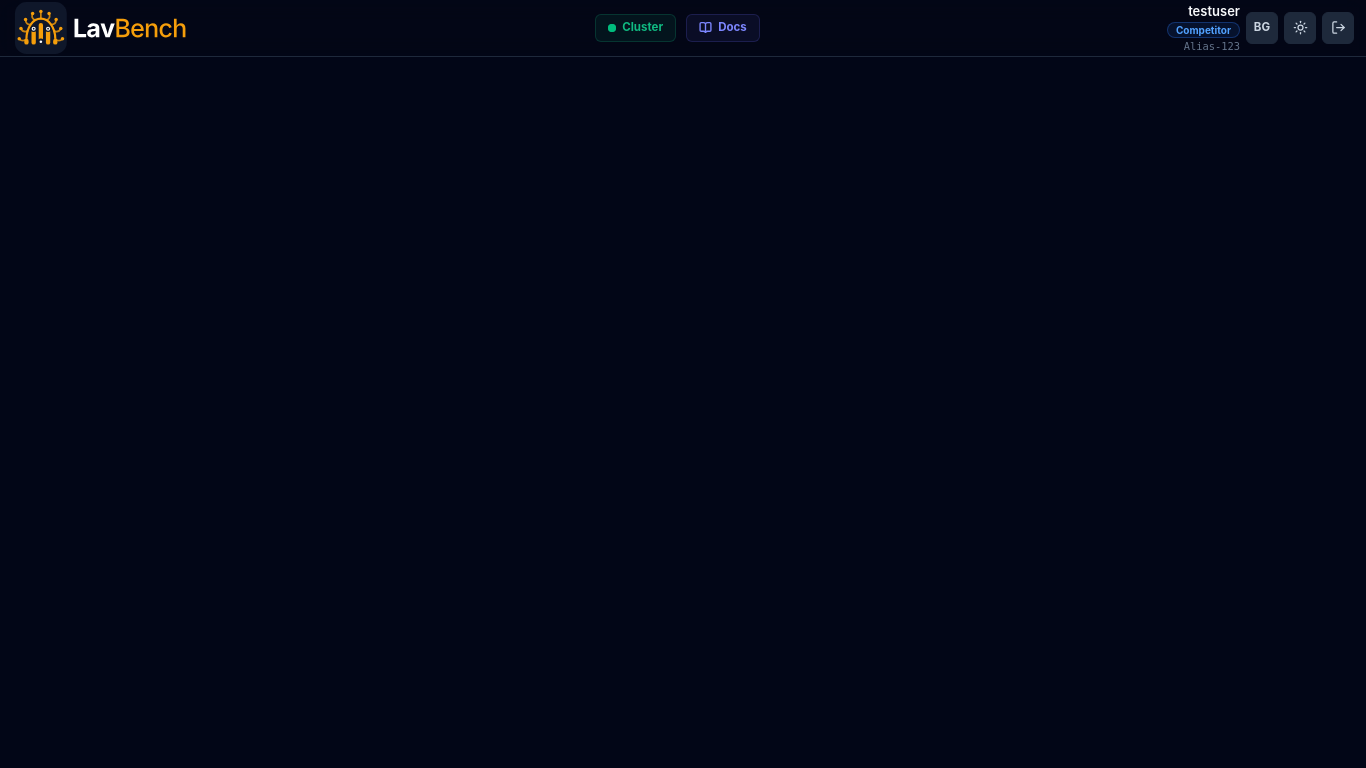
Test: Navbar Component › renders blockquote alerts correctly and cleans the tag even with leading newlines
This screenshot has width=1366, height=768.
Click the button "Docs" at coordinates (723, 28), box 686,14 -> 760,42
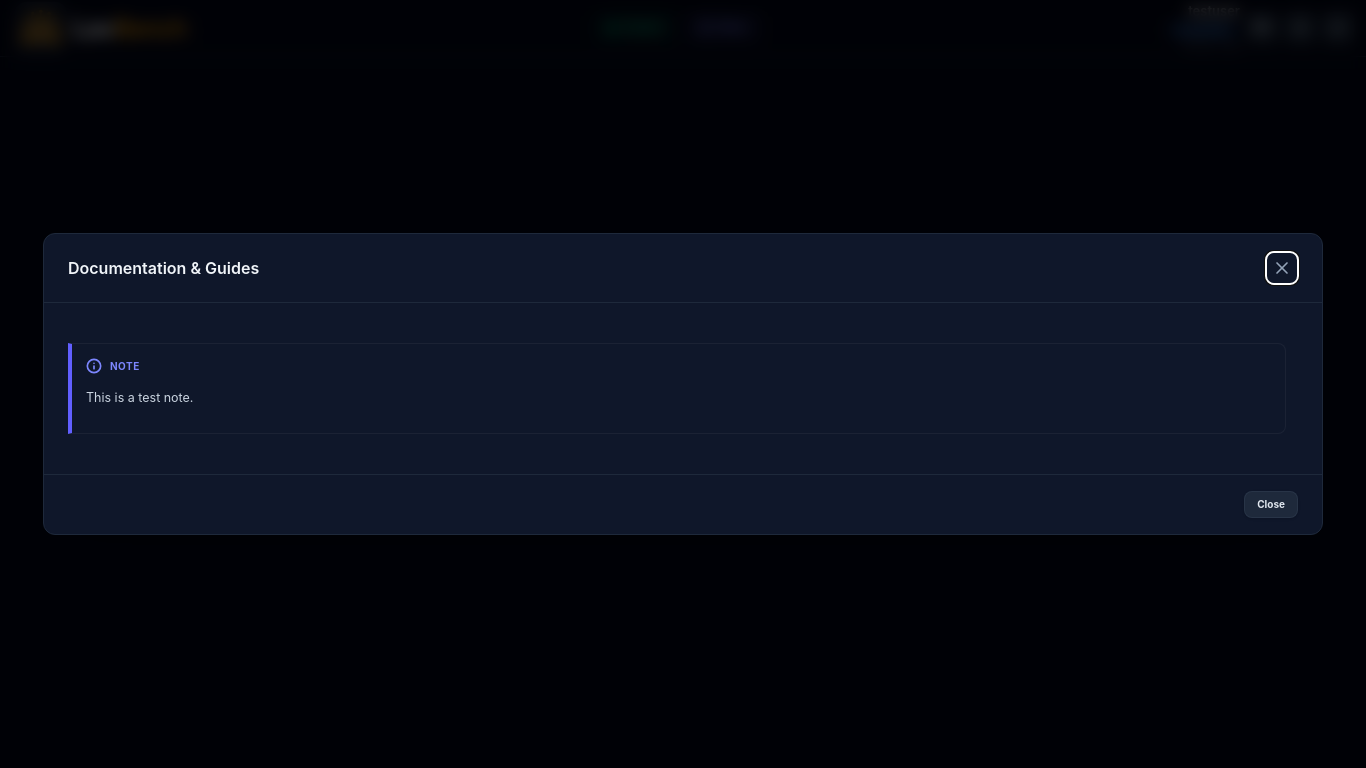
Expected: the text "This is a test note." is shown, 86,390 -> 194,405
Expected: the text "Note" is shown, 86,358 -> 140,374
